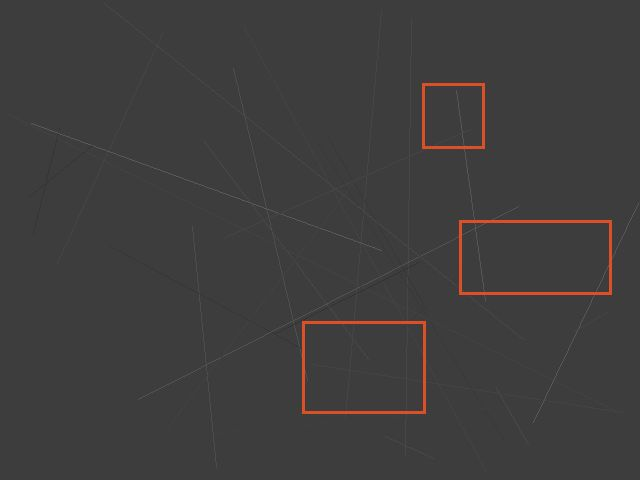D20: (302, 321, 425, 413), (459, 220, 611, 294), (422, 83, 484, 148)
